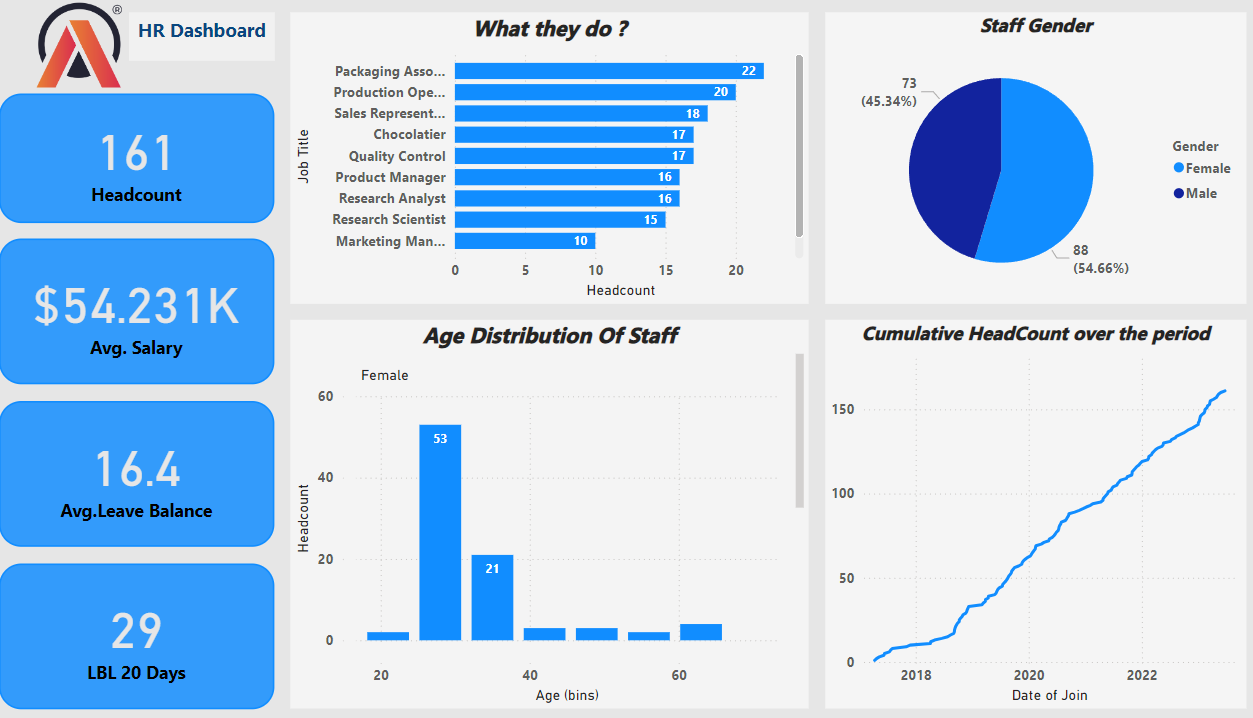

The dashboard page shown, as its layout file describes it:
{"tool":"powerbi","page":{"name":"Page 1","canvas":[1280,720],"ordinal":0},"visuals":[{"type":"card","fields":{"Values":["staff.Headcount"]},"box":[0,96,272,128],"z":0},{"type":"card","fields":{"Values":["staff.Avg. Salary"]},"box":[0,240,272,144],"z":1000},{"type":"card","fields":{"Values":["staff.Avg.Leave Balance"]},"box":[0,400,272,144],"z":2000},{"type":"card","fields":{"Values":["staff.LBL 20 Days"]},"box":[0,560,272,144],"z":3000},{"type":"clusteredBarChart","title":"What they do ?","fields":{"Y":["staff.Headcount"],"Category":["staff.Job Title"]},"box":[288,16,512,288],"z":4000},{"type":"pieChart","title":"Staff Gender","fields":{"Category":["staff.Gender"],"Y":["staff.Headcount"]},"box":[816,16,416,288],"z":5000},{"type":"columnChart","title":"Age Distribution Of Staff","fields":{"Category":["staff.Age (bins)"],"Y":["staff.Headcount"],"Rows":["staff.Gender"]},"box":[288,320,512,384],"z":6000},{"type":"lineChart","title":"Cumulative HeadCount over the period","fields":{"Category":["staff.Date of Join"],"Y":["staff.Cumulative Headcount"]},"box":[816,320,416,384],"z":7000},{"type":"image","box":[16,0,128,96],"z":8000},{"type":"textbox","box":[128,16,144,48],"z":9000}]}

Visuals, with their boxes in screenshot pixels (x1, y1, x2, y2), scaled from the page's 1280x720 canvas onto the 1253x718 screenshot:
card - staff.Headcount: x1=0 y1=96 x2=266 y2=223
card - staff.Avg. Salary: x1=0 y1=239 x2=266 y2=383
card - staff.Avg.Leave Balance: x1=0 y1=399 x2=266 y2=542
card - staff.LBL 20 Days: x1=0 y1=558 x2=266 y2=702
"What they do ?" clusteredBarChart: x1=282 y1=16 x2=783 y2=303
"Staff Gender" pieChart: x1=799 y1=16 x2=1206 y2=303
"Age Distribution Of Staff" columnChart: x1=282 y1=319 x2=783 y2=702
"Cumulative HeadCount over the period" lineChart: x1=799 y1=319 x2=1206 y2=702
image: x1=16 y1=0 x2=141 y2=96
textbox: x1=125 y1=16 x2=266 y2=64
